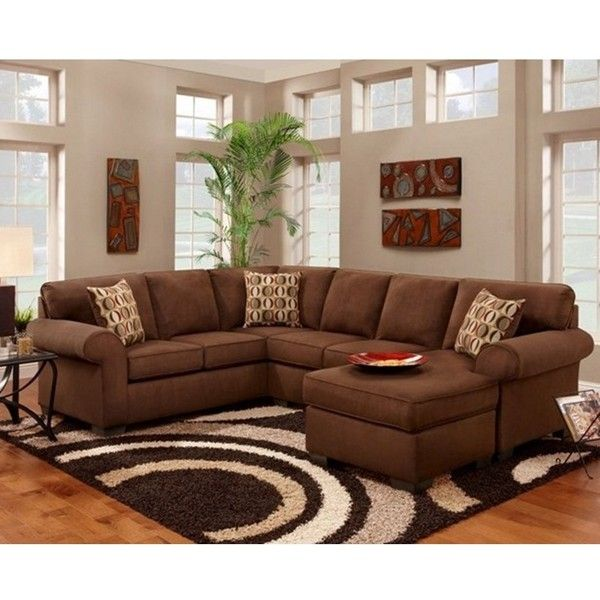chairs: (18, 262, 591, 482)
